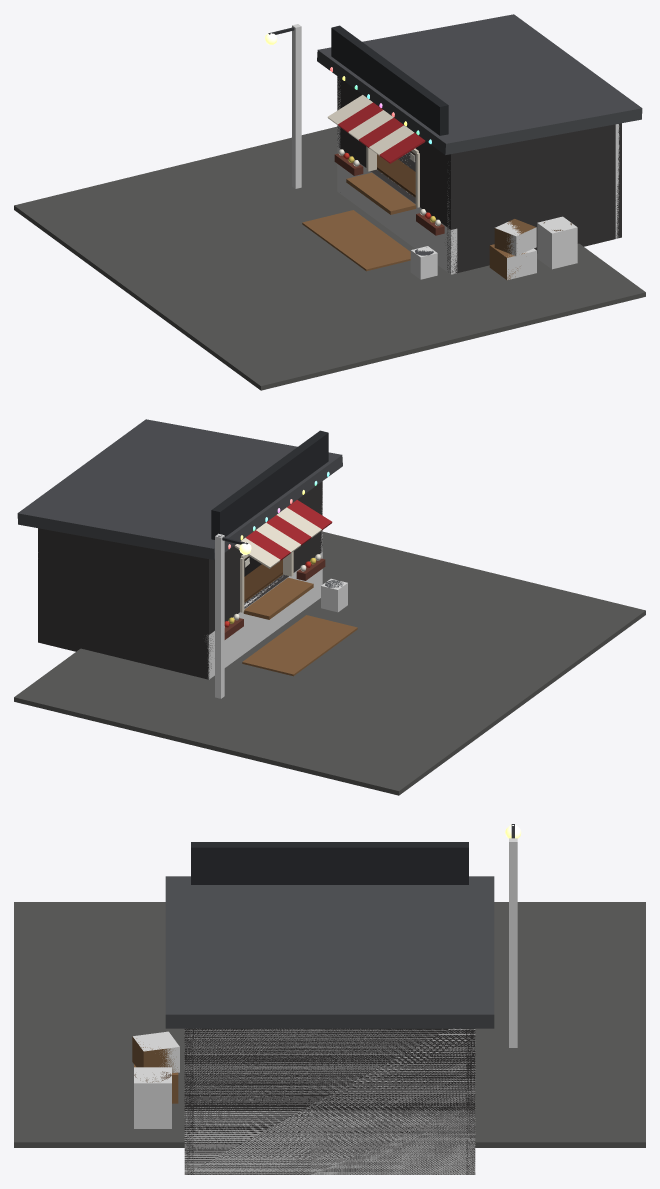
File: booth-8.glb
The picture shows the model from 3 angles, top to bottom: view 1: azimuth 30°, elevation 25°; view 2: azimuth 150°, elevation 25°; view 3: azimuth 270°, elevation 25°; orthographic projection. The views are drawn at different scales.
Parts seen in each view (by area): view 1: 30_#5a5a58_noshadow, 31_#4c4e52, 20_#3a3838, 32_#2a2c30_noshadow, 04_#8a6440_noshadow, solid.008, 21_#3a3838_r320, 00_#e8e0d0_noshadow_r320, 09_#8a6440_r320, solid.003, 01_#a3262c_noshadow_r320, solid.004 (+6 smaller); view 2: 30_#5a5a58_noshadow, 31_#4c4e52, 20_#3a3838, 32_#2a2c30_noshadow, 04_#8a6440_noshadow, solid.008, 21_#3a3838_r320, 00_#e8e0d0_noshadow_r320, solid.004, 01_#a3262c_noshadow_r320, 09_#8a6440_r320, 25_#5a3e26_noshadow (+2 smaller); view 3: 30_#5a5a58_noshadow, 31_#4c4e52, 20_#3a3838, solid.005, 32_#2a2c30_noshadow, solid.003, solid.004, solid.002, 10_#7a5a3a_r110.
Boxes of the visible parts, x1,y1,x2,y2 form: 30_#5a5a58_noshadow: (14, 126, 645, 390); 31_#4c4e52: (317, 14, 642, 154); 20_#3a3838: (337, 76, 621, 273); 32_#2a2c30_noshadow: (331, 25, 448, 135); 04_#8a6440_noshadow: (302, 210, 410, 271); solid.008: (337, 147, 457, 274); 21_#3a3838_r320: (341, 96, 457, 229); 00_#e8e0d0_noshadow_r320: (327, 95, 419, 207); 09_#8a6440_r320: (346, 172, 525, 280); solid.003: (537, 216, 577, 269); 01_#a3262c_noshadow_r320: (338, 102, 425, 163); solid.004: (292, 24, 301, 188); 30_#5a5a58_noshadow: (14, 531, 645, 795); 31_#4c4e52: (17, 419, 342, 559); 20_#3a3838: (38, 481, 322, 679); 32_#2a2c30_noshadow: (211, 430, 328, 539); 04_#8a6440_noshadow: (242, 615, 357, 676); solid.008: (205, 552, 322, 679); 21_#3a3838_r320: (202, 501, 322, 634); 00_#e8e0d0_noshadow_r320: (234, 507, 321, 612); solid.004: (215, 533, 224, 698); 01_#a3262c_noshadow_r320: (245, 500, 332, 560); 09_#8a6440_r320: (243, 577, 313, 619); 25_#5a3e26_noshadow: (244, 559, 282, 601); 30_#5a5a58_noshadow: (14, 902, 645, 1147); 31_#4c4e52: (165, 876, 494, 1028); 20_#3a3838: (184, 1028, 475, 1174); solid.005: (184, 1028, 475, 1174); 32_#2a2c30_noshadow: (191, 842, 468, 884); solid.003: (134, 1067, 171, 1128); solid.004: (509, 838, 517, 1047); solid.002: (133, 1031, 179, 1072); 10_#7a5a3a_r110: (132, 1036, 177, 1073).
Bounding box in the file's own units: 10.3 × 3.85 × 10.
